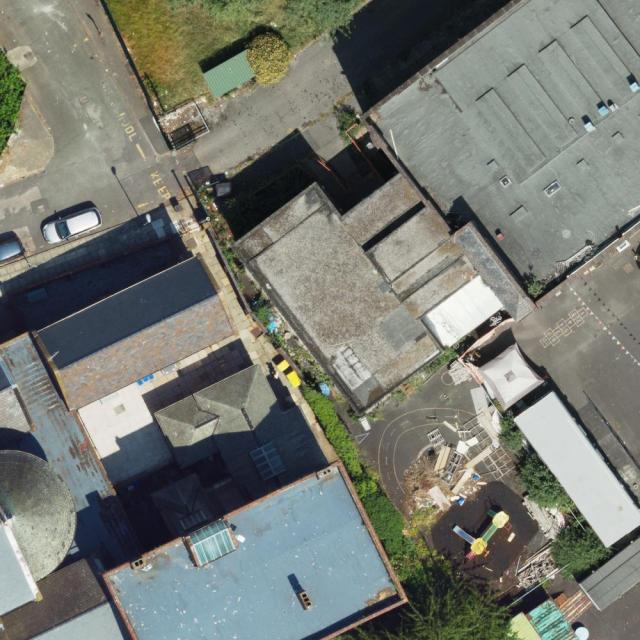roof: (232, 0, 640, 418), (0, 251, 411, 640)
skylight: (184, 518, 237, 568), (249, 440, 288, 482), (179, 507, 209, 532), (541, 179, 562, 198), (498, 175, 511, 187)
